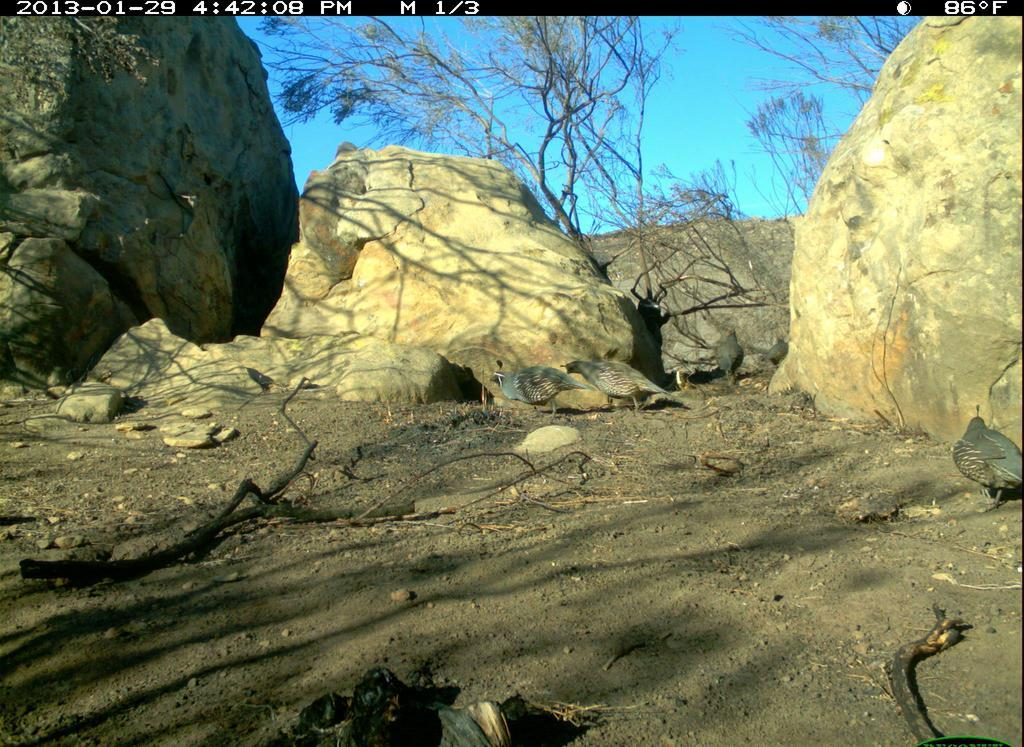bird: (944, 396, 1022, 524), (573, 345, 670, 418), (483, 355, 577, 410), (697, 324, 756, 378), (769, 331, 802, 377)
